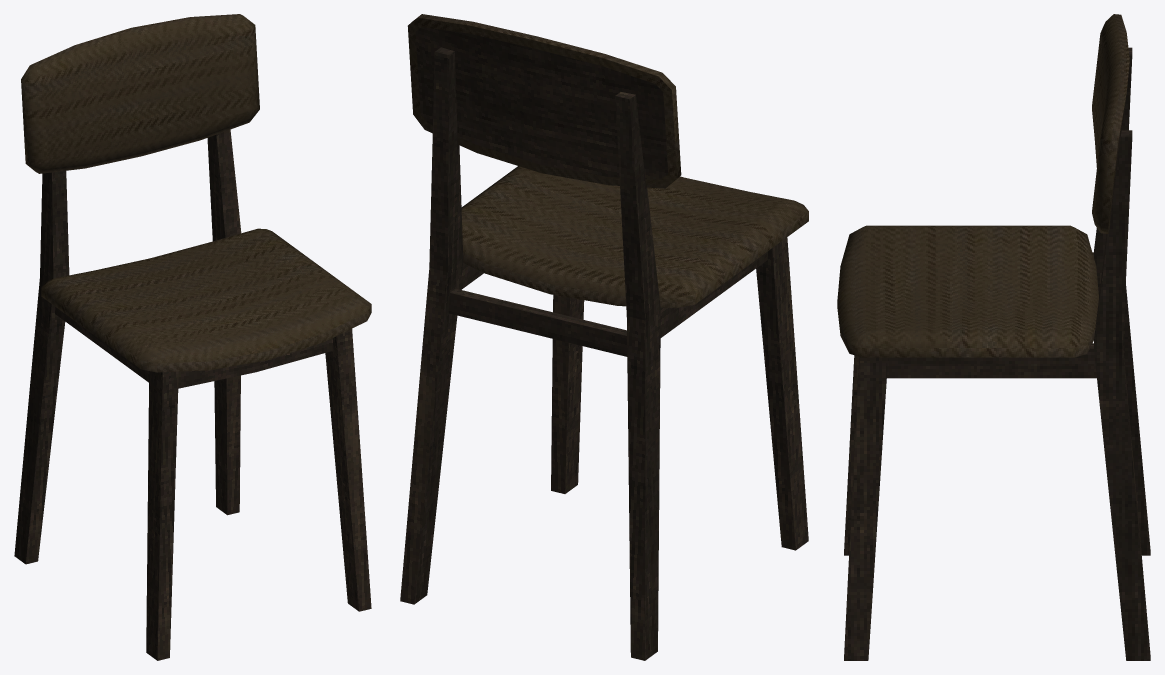
Rendered from chair_mp_4_2.glb.
The picture shows the model from 3 angles, left to right: view 1: azimuth 30°, elevation 25°; view 2: azimuth 150°, elevation 25°; view 3: azimuth 270°, elevation 25°; orthographic projection. The views are drawn at different scales.
Parts seen in each view (by area): view 1: chair_mp_4_2; view 2: chair_mp_4_2; view 3: chair_mp_4_2.
Boxes of the visible parts, x1=… form: chair_mp_4_2: x1=14, y1=14, x2=371, y2=660; chair_mp_4_2: x1=400, y1=14, x2=808, y2=660; chair_mp_4_2: x1=837, y1=14, x2=1150, y2=660.
Size of the model in its own units: 0.4763 by 1.01 by 0.5226.
2 materials, 2 textured.
